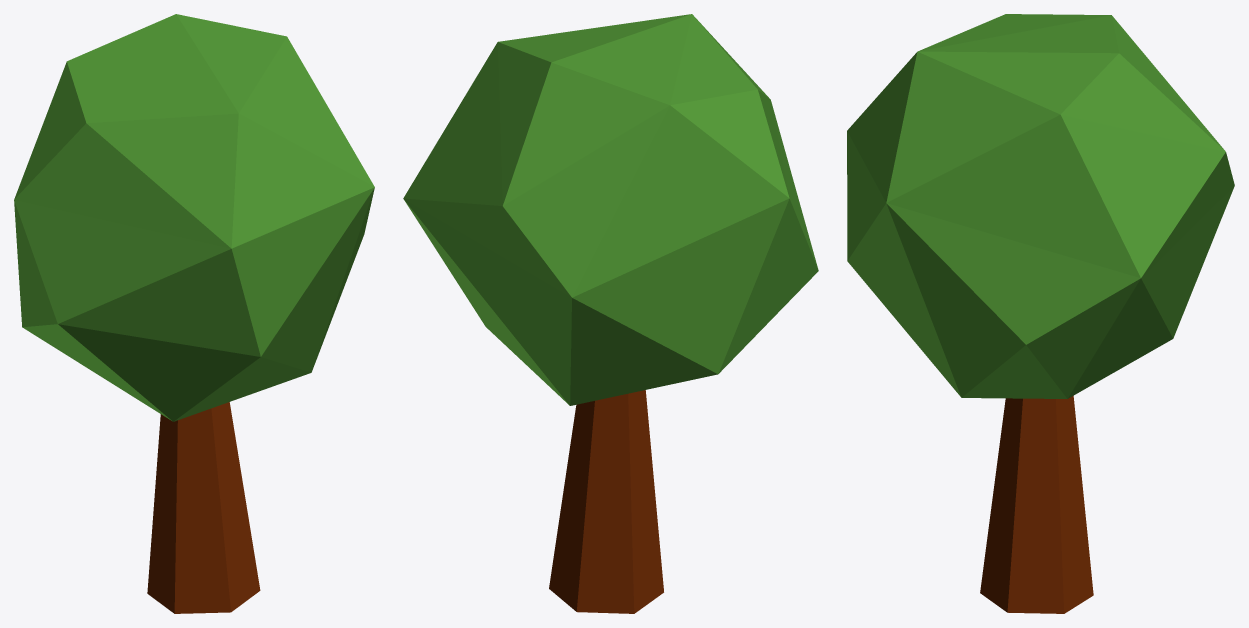
The model's file is treetwo.fbx.
3 views of the same model, side by side, from view 1: azimuth 30°, elevation 25°; view 2: azimuth 150°, elevation 25°; view 3: azimuth 270°, elevation 25° (orthographic).
Parts seen in each view (by area): view 1: Tree; view 2: Tree; view 3: Tree.
Boxes of the visible parts, x1,y1,x2,y2 form: Tree: (14, 14, 374, 613); Tree: (403, 14, 818, 613); Tree: (847, 14, 1234, 613).
Bounding box in the file's own units: 2 × 3.07 × 1.96.
